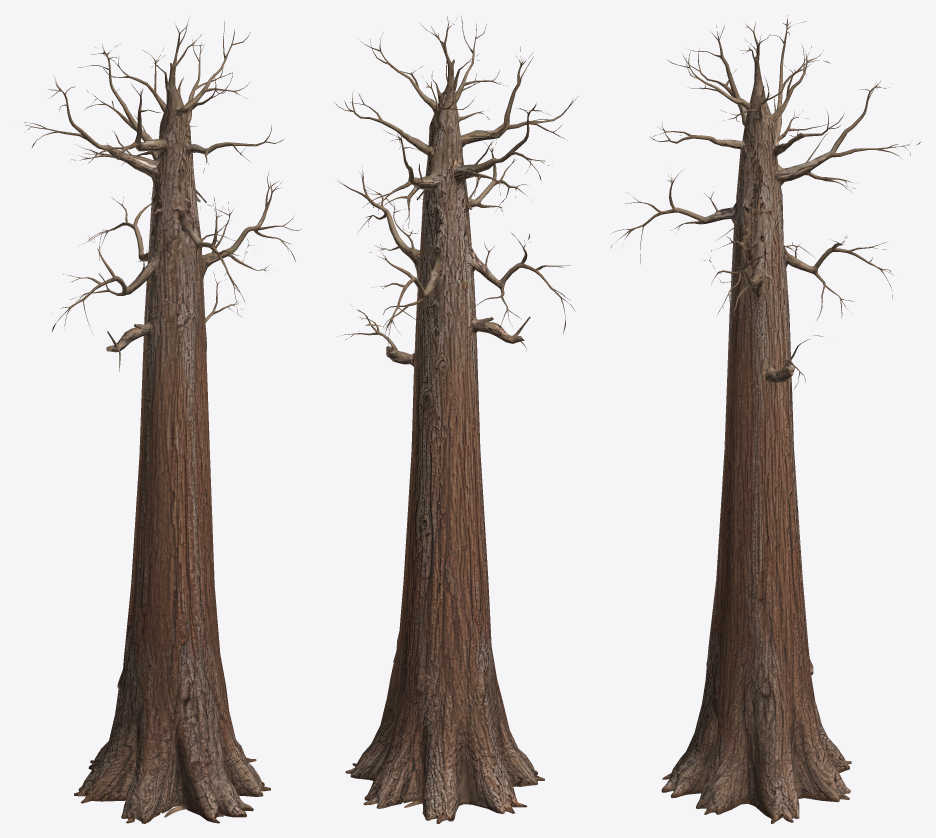
Rendered from environment_redwoodBase.fbx.
3 views of the same model, side by side, from view 1: azimuth 30°, elevation 25°; view 2: azimuth 150°, elevation 25°; view 3: azimuth 270°, elevation 25° (orthographic).
Parts seen in each view (by area): view 1: redwoodBase; view 2: redwoodBase; view 3: redwoodBase.
Part boxes in pixels (x1=…): redwoodBase: x1=24, y1=17, x2=301, y2=823; redwoodBase: x1=334, y1=16, x2=578, y2=823; redwoodBase: x1=610, y1=15, x2=920, y2=823.
Bounding box in the file's own units: 1692 × 4998 × 1853.
